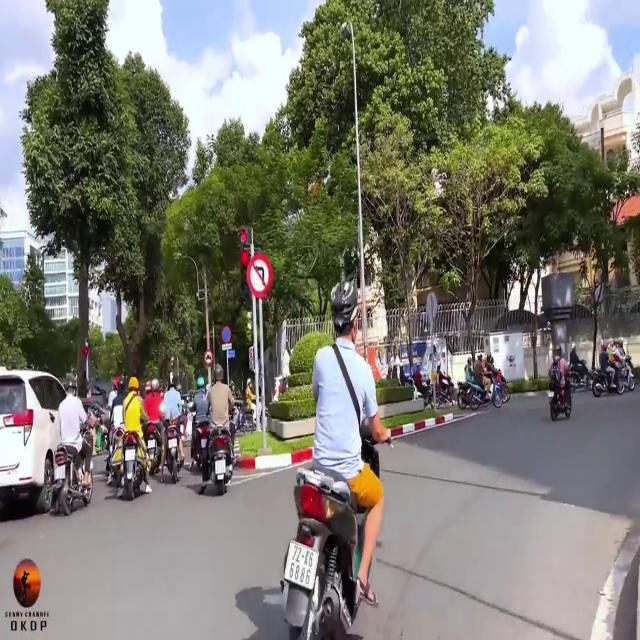bien_trang: (285, 534, 319, 591)
